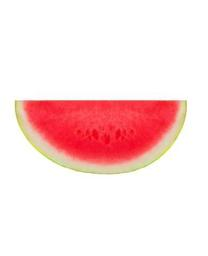watermelon: (13, 98, 188, 178)
